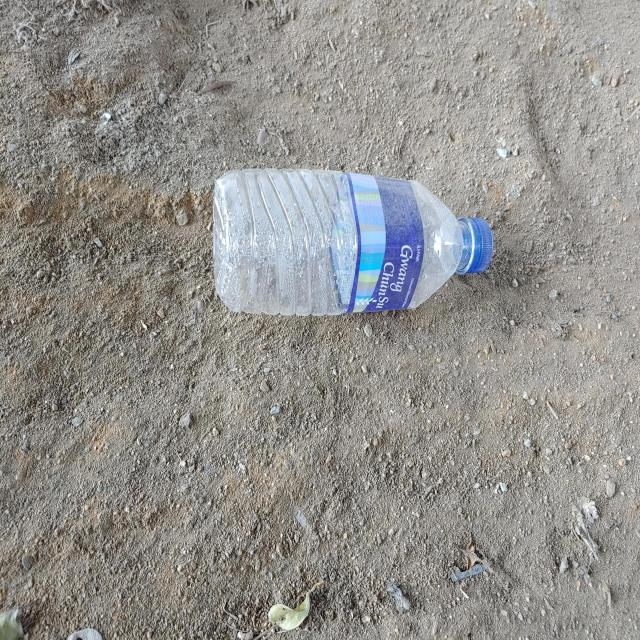plastic_bottle: (212, 167, 494, 317)
